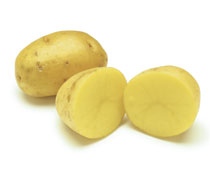boiled potatoes: (63, 75, 191, 129)
